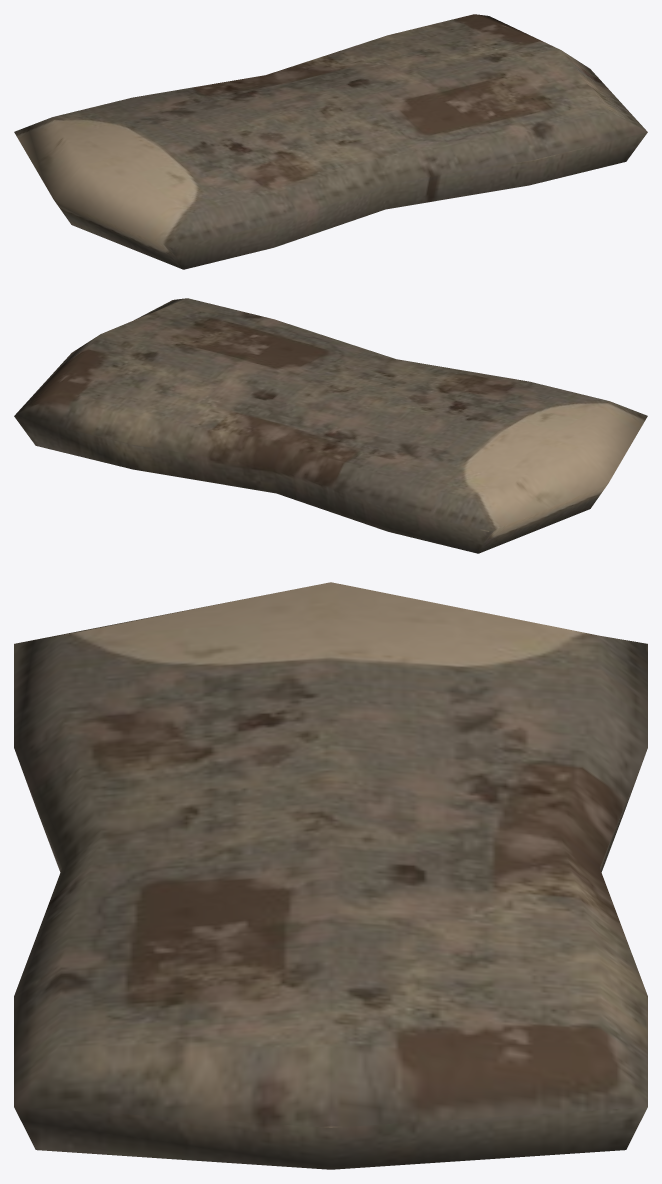
The model's file is sleeping_bag_textured.glb.
The picture shows the model from 3 angles, top to bottom: view 1: azimuth 30°, elevation 25°; view 2: azimuth 150°, elevation 25°; view 3: azimuth 270°, elevation 25°; orthographic projection. The views are drawn at different scales.
Visible parts, largest first — view 1: Cube.001; view 2: Cube.001; view 3: Cube.001.
Boxes of the visible parts, x1,y1,x2,y2 form: Cube.001: [14, 14, 647, 269]; Cube.001: [14, 298, 647, 553]; Cube.001: [14, 582, 647, 1169].
Size of the model in its own units: 1.41 by 0.1387 by 0.7211.
1 material, 1 textured.
